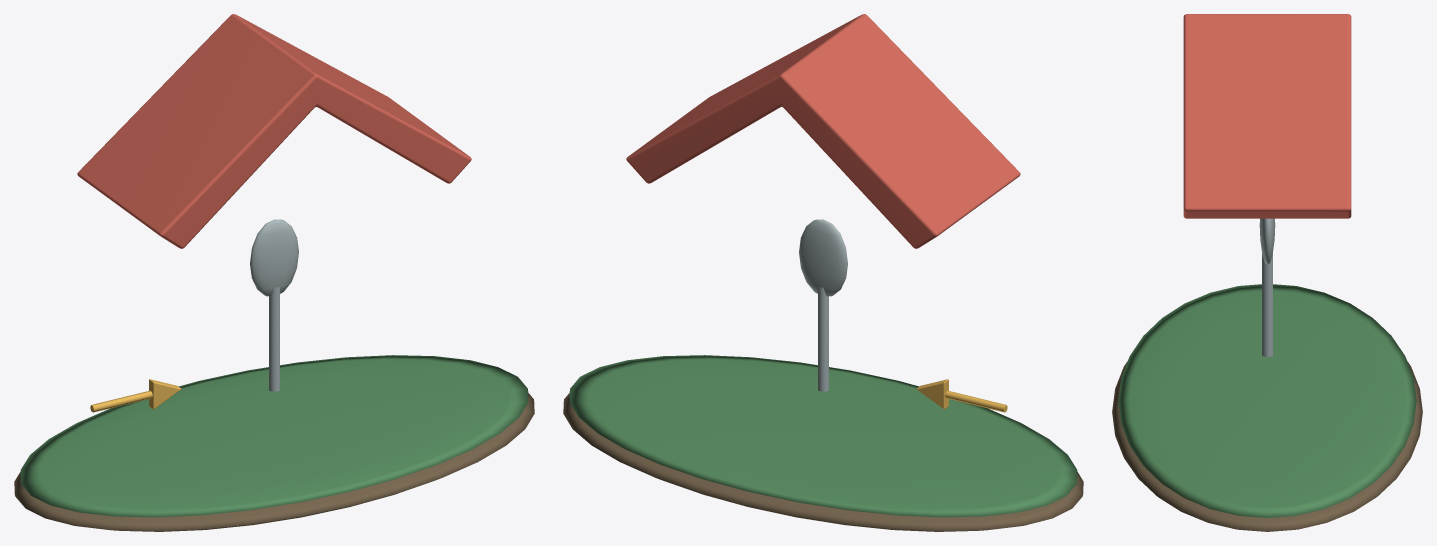
The model's file is complete-first-it-under-roof.glb.
The picture shows the model from 3 angles, left to right: view 1: azimuth 30°, elevation 25°; view 2: azimuth 150°, elevation 25°; view 3: azimuth 270°, elevation 25°; orthographic projection.
Visible parts, largest first — view 1: complete-first-it-under-roof_surface_01, complete-first-it-under-roof_surface_02, complete-first-it-under-roof_surface_00, complete-first-it-under-roof_surface_03, complete-first-it-under-roof_surface_04; view 2: complete-first-it-under-roof_surface_01, complete-first-it-under-roof_surface_02, complete-first-it-under-roof_surface_00, complete-first-it-under-roof_surface_03, complete-first-it-under-roof_surface_04; view 3: complete-first-it-under-roof_surface_01, complete-first-it-under-roof_surface_02, complete-first-it-under-roof_surface_00, complete-first-it-under-roof_surface_03.
Boxes of the visible parts, x1,y1,x2,y2 form: complete-first-it-under-roof_surface_01: (20, 355, 528, 517); complete-first-it-under-roof_surface_02: (77, 14, 471, 248); complete-first-it-under-roof_surface_00: (14, 393, 534, 531); complete-first-it-under-roof_surface_03: (250, 219, 298, 391); complete-first-it-under-roof_surface_04: (90, 379, 181, 412); complete-first-it-under-roof_surface_01: (569, 355, 1077, 517); complete-first-it-under-roof_surface_02: (626, 14, 1020, 248); complete-first-it-under-roof_surface_00: (563, 393, 1083, 531); complete-first-it-under-roof_surface_03: (799, 219, 847, 391); complete-first-it-under-roof_surface_04: (916, 379, 1007, 412); complete-first-it-under-roof_surface_01: (1118, 284, 1416, 517); complete-first-it-under-roof_surface_02: (1183, 14, 1351, 218); complete-first-it-under-roof_surface_00: (1112, 361, 1422, 531); complete-first-it-under-roof_surface_03: (1259, 218, 1275, 357).
Size of the model in its own units: 4.56 by 3.66 by 2.5.
